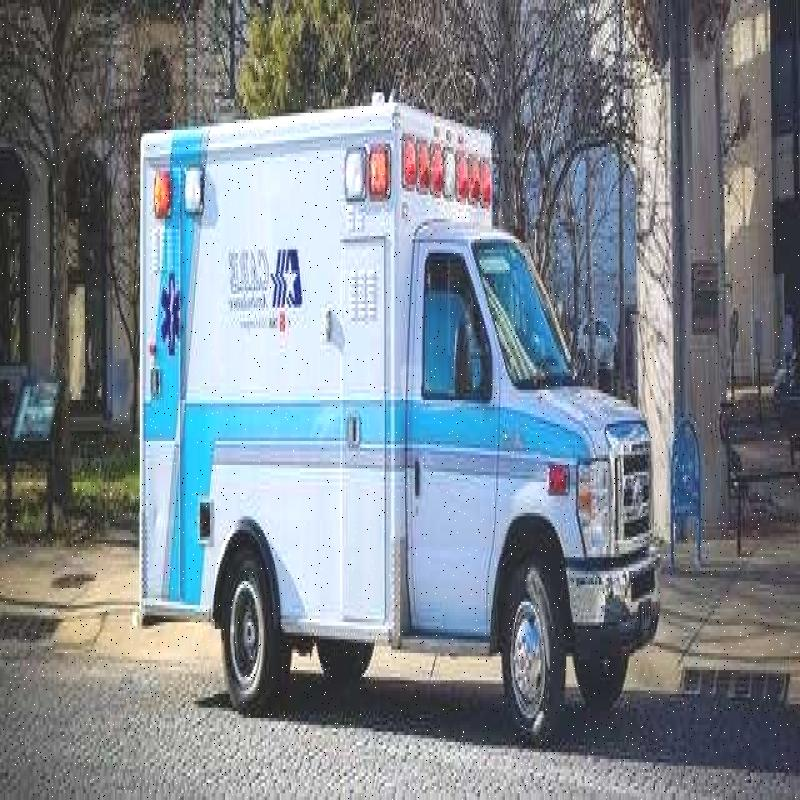AmbulanceSiren: (398, 118, 501, 221)
